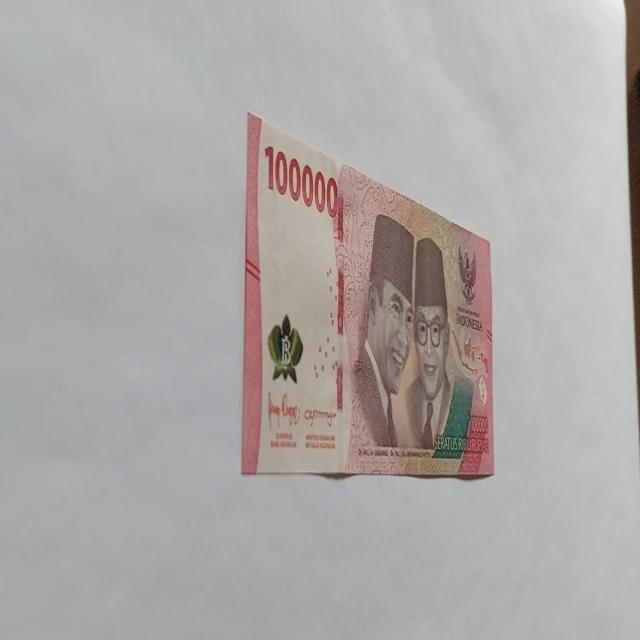seratus ribu rupiah: (240, 110, 496, 480)
